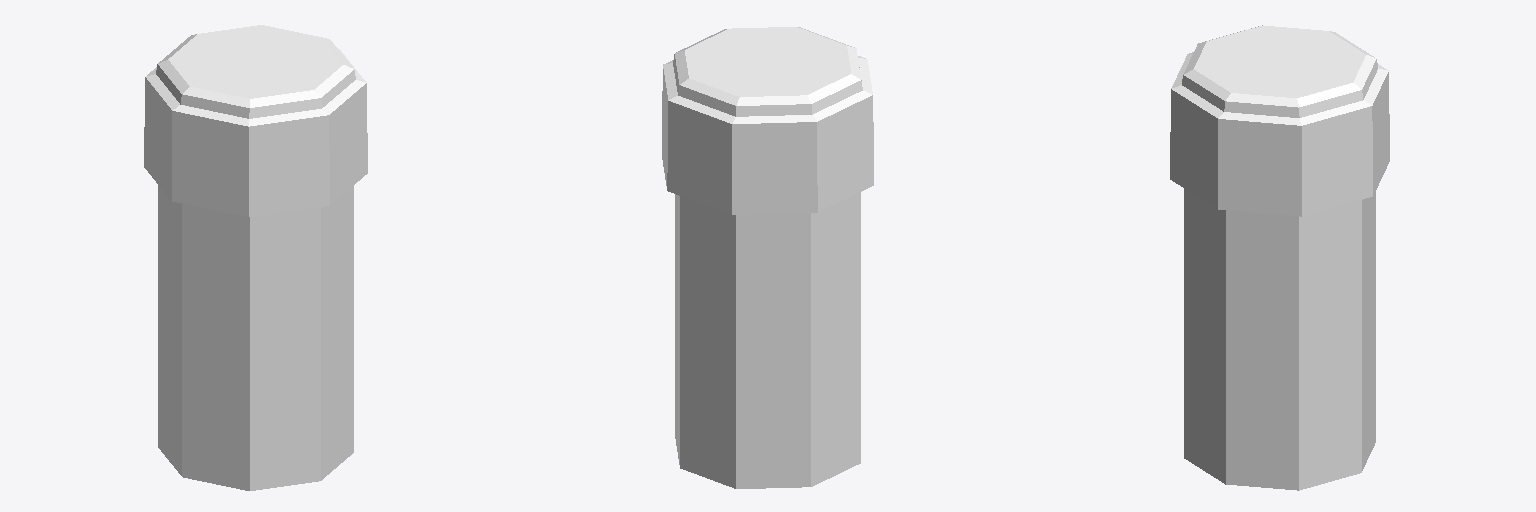
Rendered from BotePastillas.obj.
3 renders of one model, left to right at view 1: azimuth 30°, elevation 25°; view 2: azimuth 150°, elevation 25°; view 3: azimuth 270°, elevation 25°, orthographic.
Parts seen in each view (by area): view 1: Bote_-_Low_Poly_Cylinder.001_None.008_None.008; view 2: Bote_-_Low_Poly_Cylinder.001_None.008_None.008; view 3: Bote_-_Low_Poly_Cylinder.001_None.008_None.008.
Part boxes in pixels (x1,y1,x2,y2): Bote_-_Low_Poly_Cylinder.001_None.008_None.008: (144, 25, 367, 490); Bote_-_Low_Poly_Cylinder.001_None.008_None.008: (662, 27, 873, 488); Bote_-_Low_Poly_Cylinder.001_None.008_None.008: (1170, 25, 1389, 490).
Size of the model in its own units: 0.0812 by 0.1579 by 0.0812.